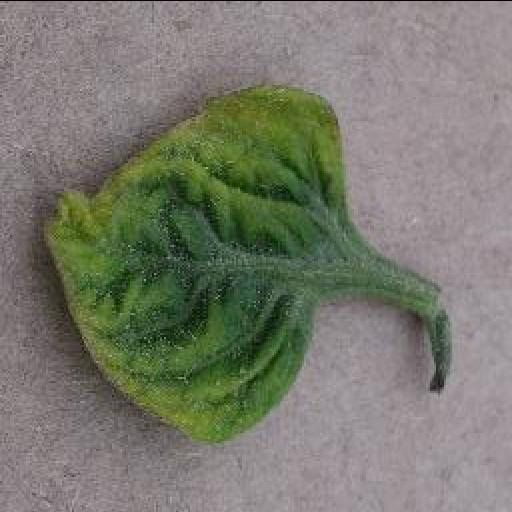disease_tomato: (44, 88, 350, 446)
